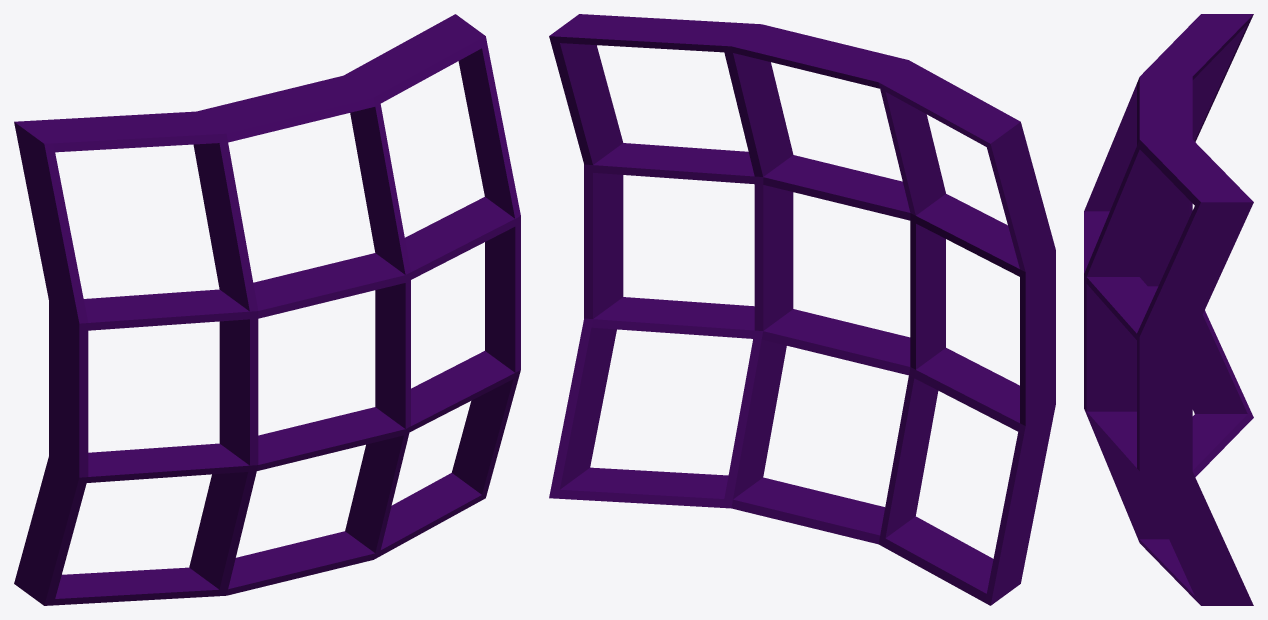
File: player_shield.gltf
3 renders of one model, left to right at view 1: azimuth 30°, elevation 25°; view 2: azimuth 150°, elevation 25°; view 3: azimuth 270°, elevation 25°, orthographic. The views are drawn at different scales.
Visible parts, largest first — view 1: player_shield; view 2: player_shield; view 3: player_shield.
Boxes of the visible parts, x1,y1,x2,y2 form: player_shield: (14, 14, 520, 605); player_shield: (549, 14, 1055, 605); player_shield: (1084, 14, 1253, 605).
Bounding box in the file's own units: 2 × 2 × 0.7628.
